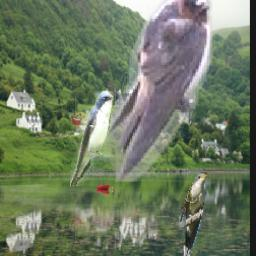Cuckoo: (179, 173, 207, 256)
Swallow: (103, 0, 213, 183), (71, 92, 115, 188)
